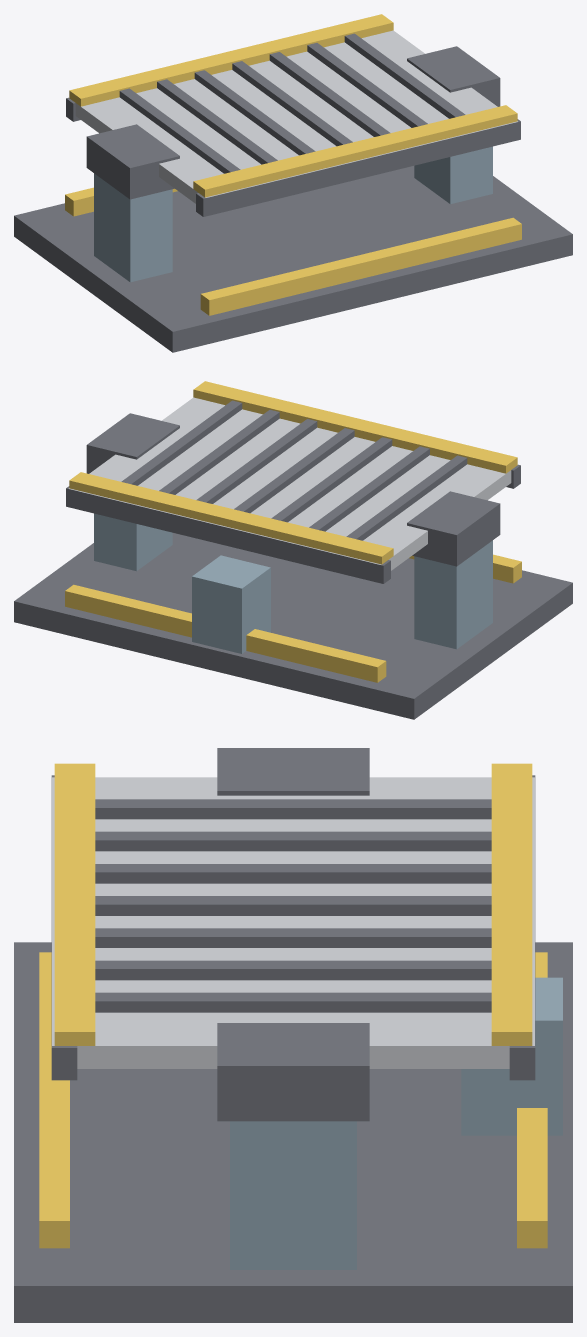
The model's file is animated-mechanisms-kit-tilting-platform-3a5d5118__24661.glb.
3 views of the same model, one above another, from view 1: azimuth 30°, elevation 25°; view 2: azimuth 150°, elevation 25°; view 3: azimuth 270°, elevation 25° (orthographic). The views are drawn at different scales.
Parts seen in each view (by area): view 1: tilting-platform, deck/steel, deck/iron, deck/accent; view 2: tilting-platform, deck/steel, deck/iron, deck/accent; view 3: tilting-platform, deck/iron, deck/steel, deck/accent.
Boxes of the visible parts, x1,y1,x2,y2 form: tilting-platform: (14, 46, 572, 352); deck/steel: (75, 30, 517, 203); deck/iron: (66, 33, 520, 216); deck/accent: (69, 14, 517, 197); tilting-platform: (14, 413, 572, 719); deck/steel: (69, 397, 511, 570); deck/iron: (66, 400, 520, 583); deck/accent: (69, 381, 517, 564); tilting-platform: (14, 748, 572, 1322); deck/iron: (51, 775, 535, 1080); deck/steel: (52, 777, 534, 1068); deck/accent: (54, 763, 532, 1045).
Bounding box in the file's own units: 3.2 × 1.1 × 2.2.
